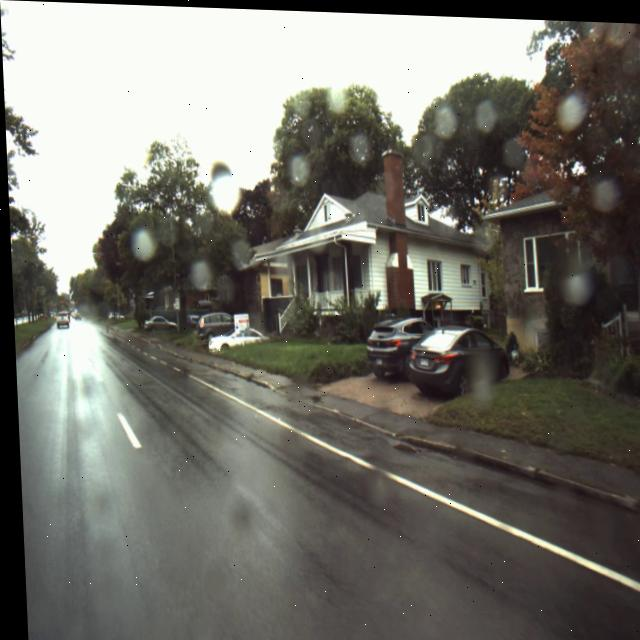car: (406, 323, 508, 392), (364, 312, 422, 382), (205, 324, 262, 357), (192, 310, 231, 337), (139, 313, 175, 333), (53, 311, 66, 328)
